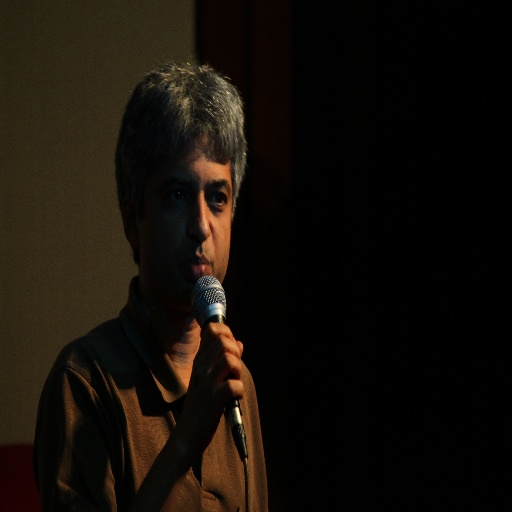hand: (157, 309, 239, 465)
